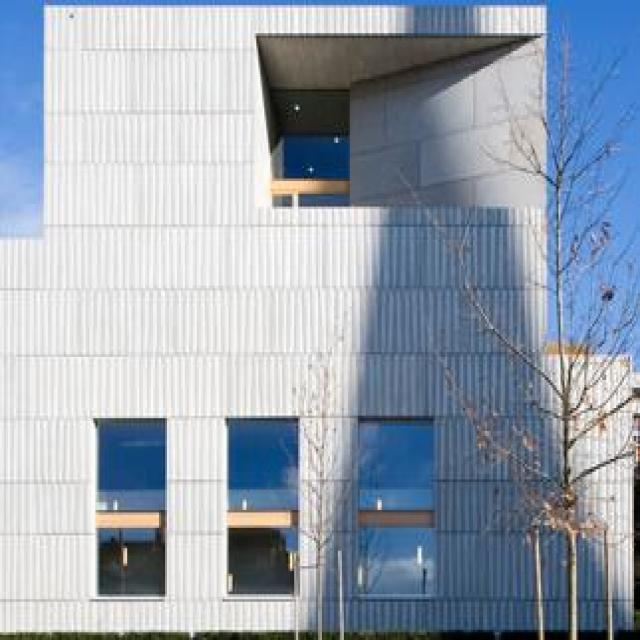window: (357, 417, 435, 595), (96, 417, 165, 600), (228, 419, 300, 593), (271, 93, 352, 203)
